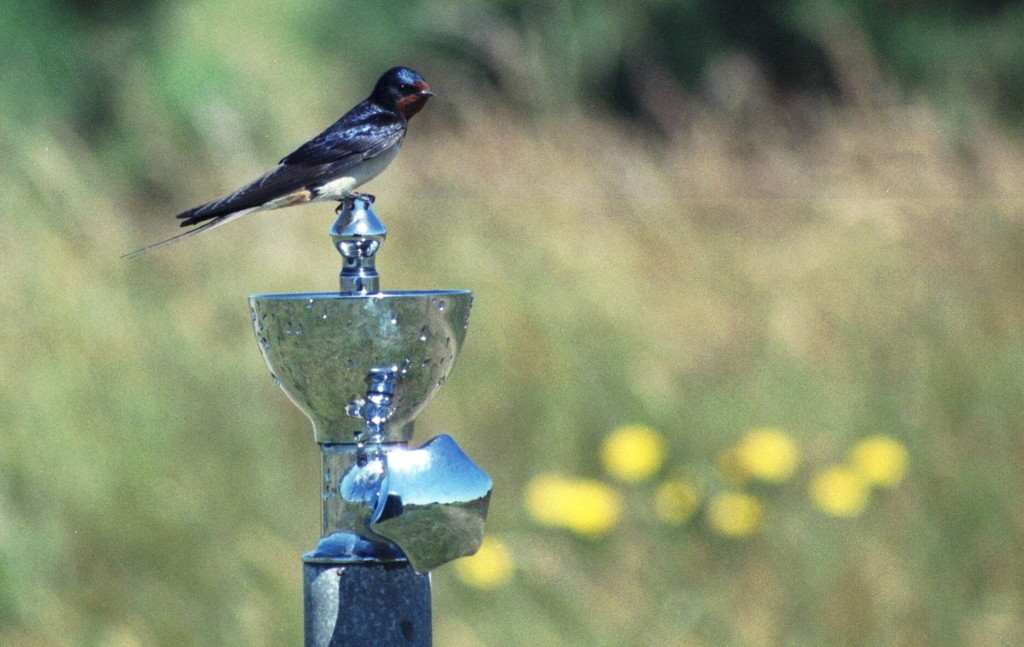person: (172, 64, 438, 296)
